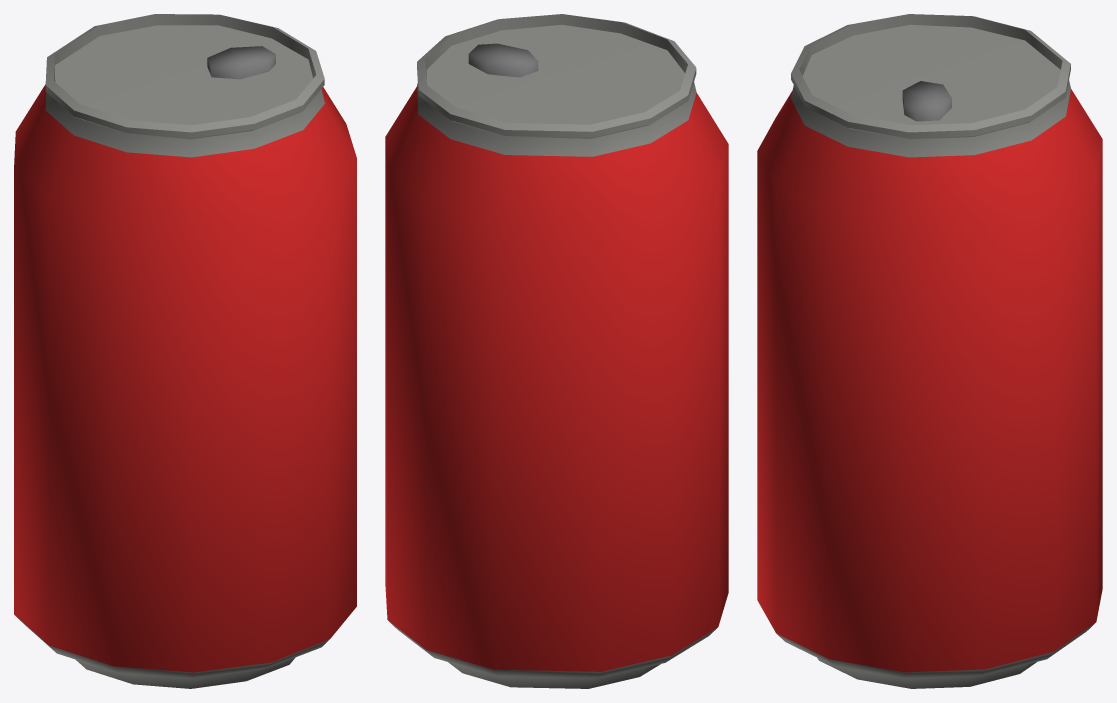
Rendered from Small_can.fbx.
3 renders of one model, left to right at view 1: azimuth 30°, elevation 25°; view 2: azimuth 150°, elevation 25°; view 3: azimuth 270°, elevation 25°, orthographic.
Parts seen in each view (by area): view 1: Coke_can; view 2: Coke_can; view 3: Coke_can.
Part boxes in pixels (left/top/right/bottom): Coke_can: left=14, top=14, right=356, bottom=688; Coke_can: left=385, top=14, right=728, bottom=688; Coke_can: left=757, top=14, right=1102, bottom=688.
Size of the model in its own units: 9.65 by 17.57 by 9.7.
